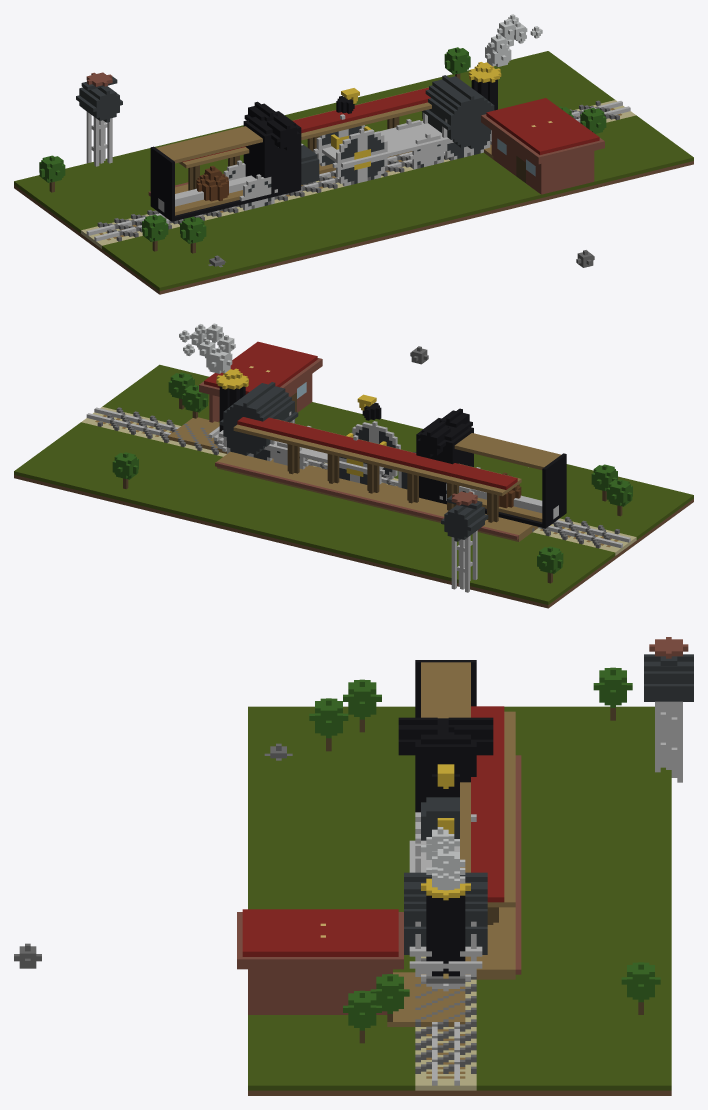
3 views of the same model, one above another, from view 1: azimuth 30°, elevation 25°; view 2: azimuth 150°, elevation 25°; view 3: azimuth 270°, elevation 25° (orthographic). The views are drawn at different scales.
Bounding box in the file's own units: 161 × 36 × 122.
